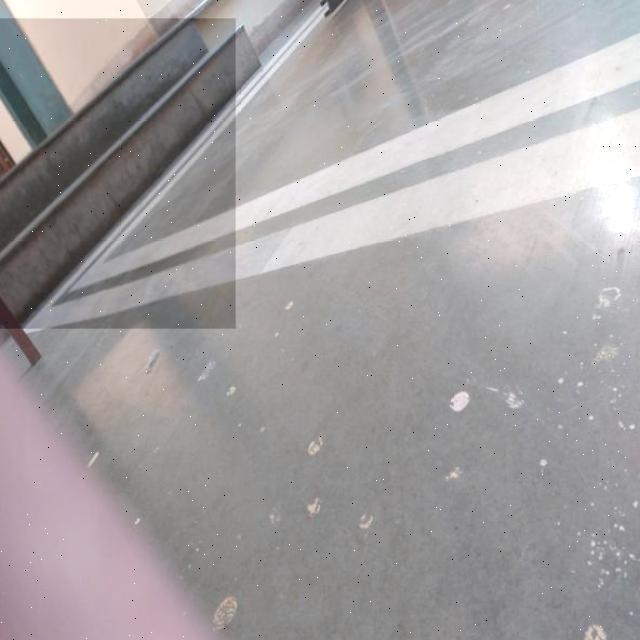stair: (0, 18, 236, 329)
